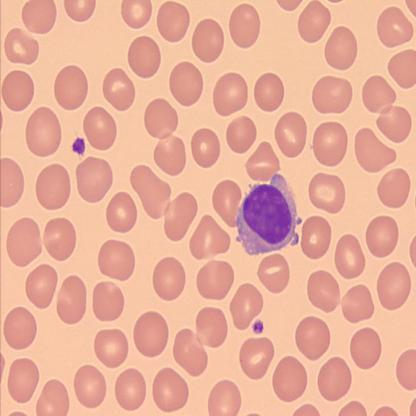Atypical lymphocyte: (236, 175, 303, 254)
